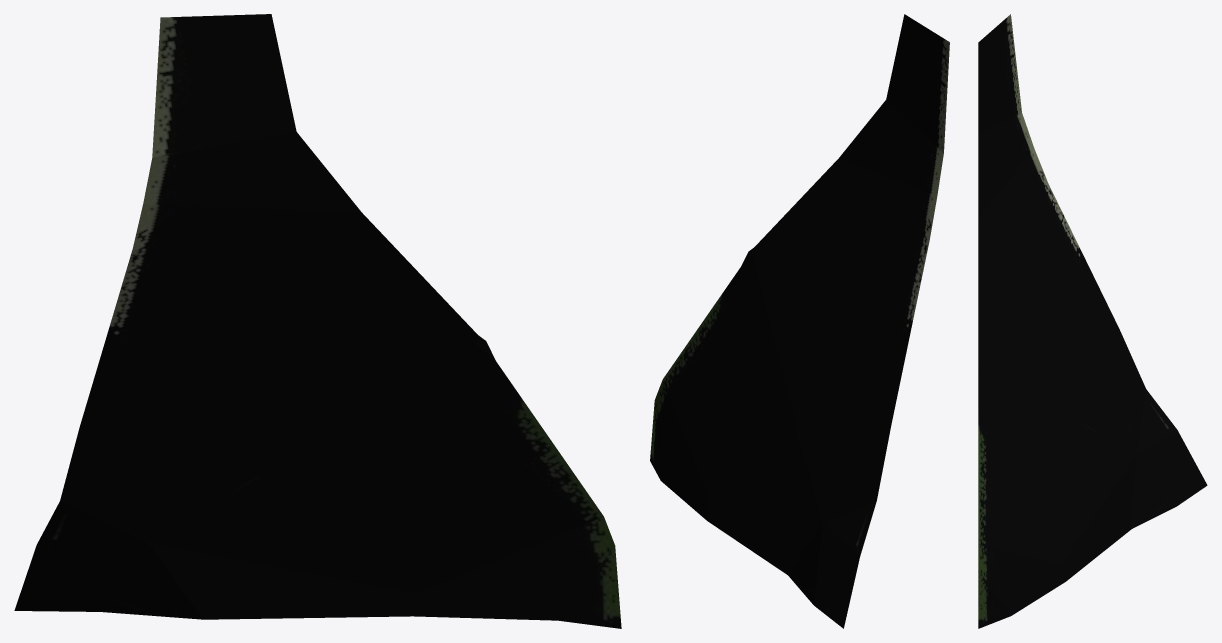
3 views of the same model, side by side, from view 1: azimuth 30°, elevation 25°; view 2: azimuth 150°, elevation 25°; view 3: azimuth 270°, elevation 25° (orthographic). The views are drawn at different scales.
Size of the model in its own units: 3.85 by 5.9 by 2.6.
Materials: 1 (1 with a texture image).
